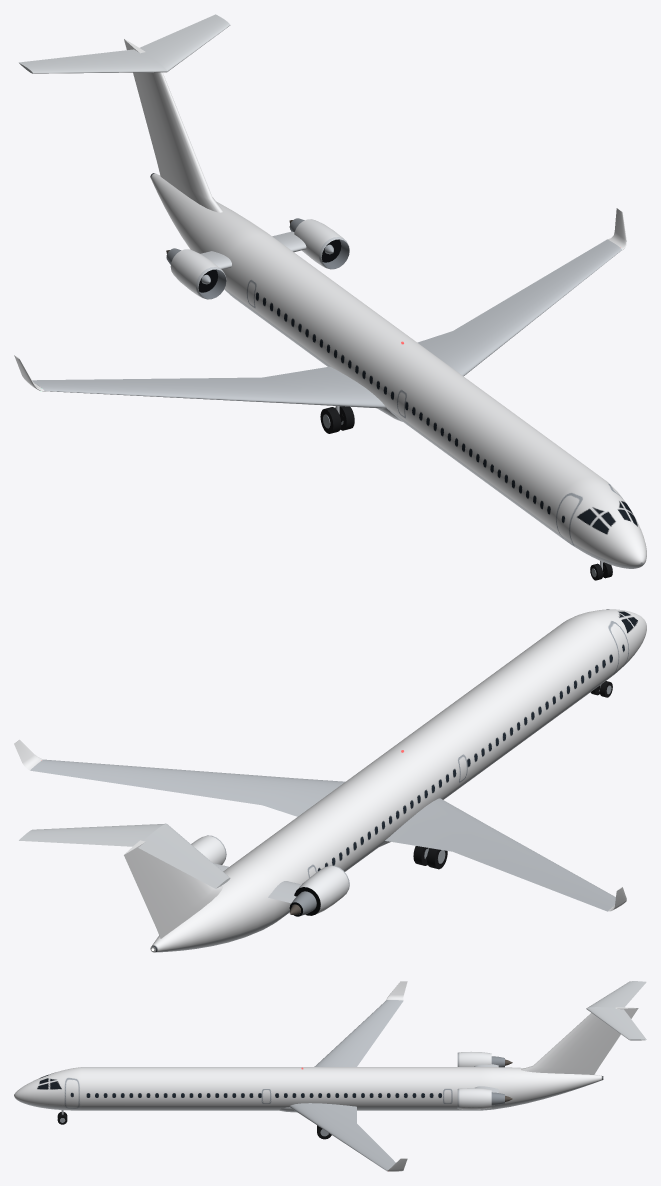
File: crj9.glb
3 renders of one model, top to bottom at view 1: azimuth 30°, elevation 25°; view 2: azimuth 150°, elevation 25°; view 3: azimuth 270°, elevation 25°, orthographic. The views are drawn at different scales.
Visible parts, largest first — view 1: body, gear; view 2: body, gear; view 3: body.
Part boxes in pixels (x1=…): body: x1=14, y1=14, x2=646, y2=568; gear: x1=320, y1=406, x2=612, y2=580; body: x1=14, y1=609, x2=646, y2=952; gear: x1=413, y1=681, x2=612, y2=869; body: x1=14, y1=981, x2=646, y2=1171.
Size of the model in its own units: 25.96 by 7.87 by 39.11.
19 materials, 1 textured.
